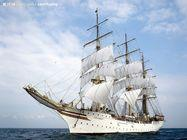fanchuan: (22, 6, 166, 135)
